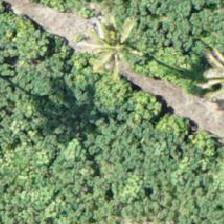coconut_tree: (64, 0, 154, 75)
